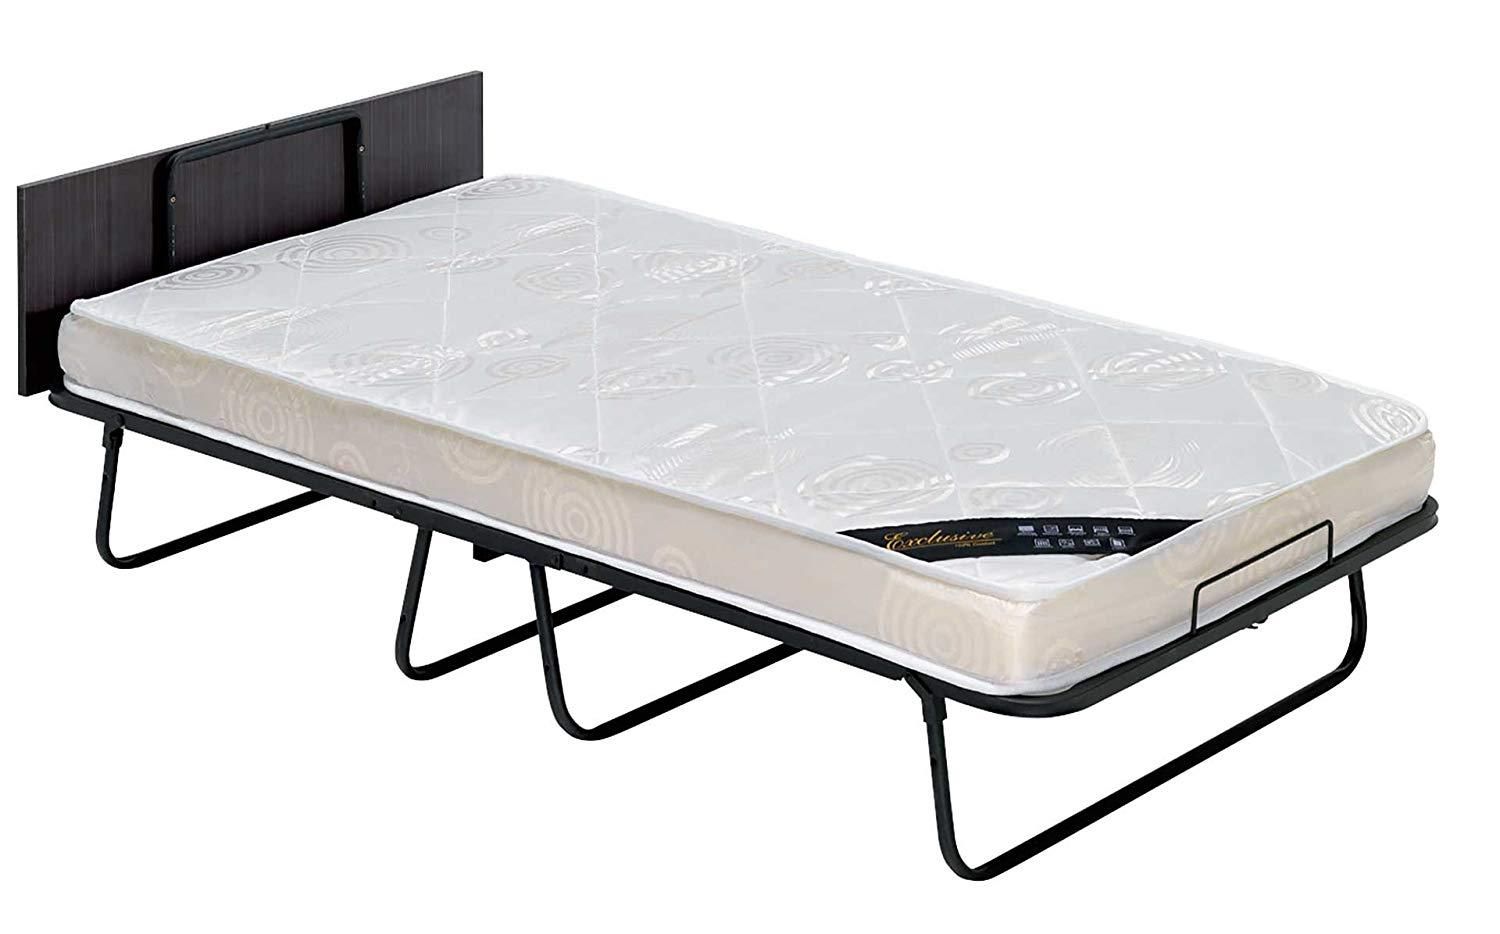bed: (74, 110, 1412, 720)
